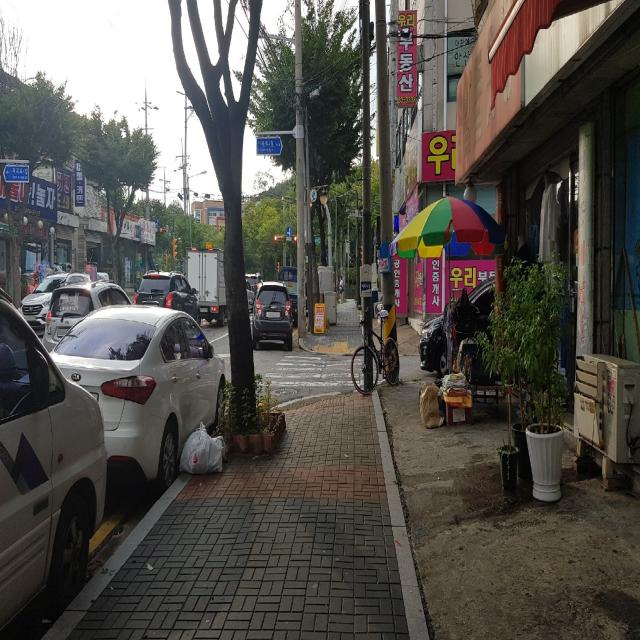횡단보도: (258, 355, 364, 388)
